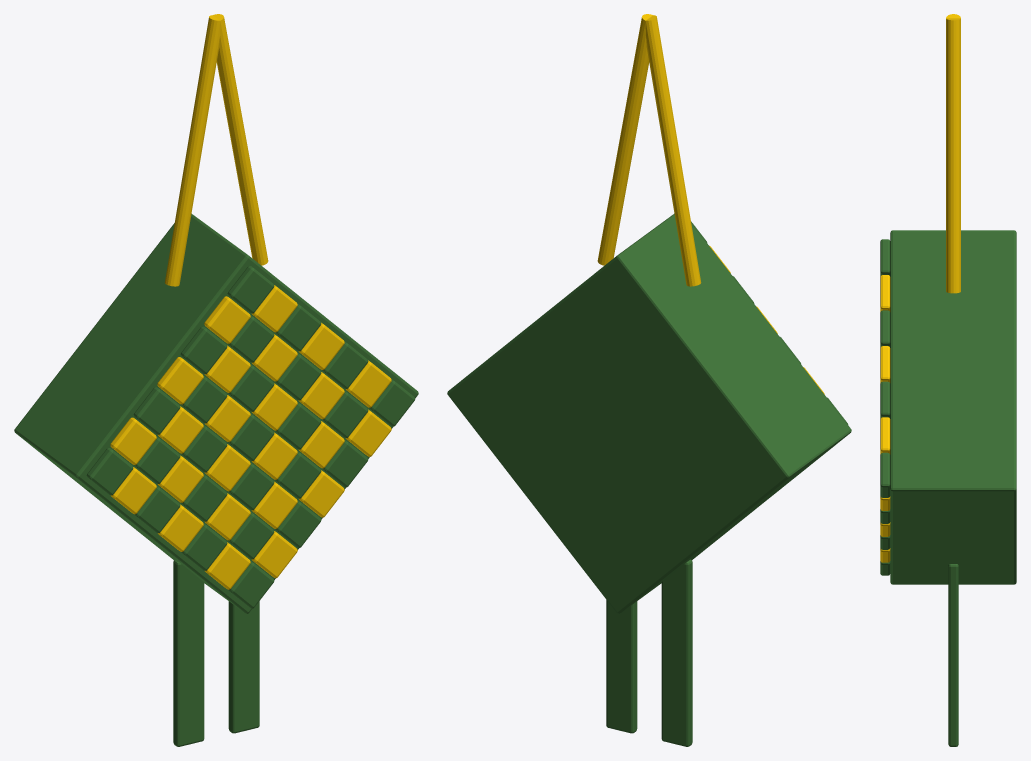
The model's file is hari-raya-ketupat-decoration.glb.
3 renders of one model, left to right at view 1: azimuth 30°, elevation 25°; view 2: azimuth 150°, elevation 25°; view 3: azimuth 270°, elevation 25°, orthographic.
Visible parts, largest first — view 1: Woven_Core, Palm_Tail, Hanging_Loop_Left, Palm_Tail.001, Hanging_Loop_Right, Palm_Weave_0_2, Palm_Weave_0_0, Palm_Weave_0_4, Palm_Weave_0_6, Palm_Weave_0_3, Palm_Weave_0_1, Palm_Weave_0_5 (+42 smaller); view 2: Woven_Core, Palm_Tail, Hanging_Loop_Left, Palm_Tail.001, Hanging_Loop_Right; view 3: Woven_Core, Hanging_Loop_Right, Palm_Tail.001, Palm_Weave_6_6, Palm_Weave_4_6, Palm_Weave_0_6, Palm_Weave_5_6, Palm_Weave_2_6, Palm_Weave_3_6, Palm_Weave_1_6.
Boxes of the visible parts, x1,y1,x2,y2 form: Woven_Core: (14, 213, 418, 613); Palm_Tail: (173, 559, 204, 746); Hanging_Loop_Left: (164, 15, 220, 286); Palm_Tail.001: (228, 601, 259, 733); Hanging_Loop_Right: (213, 14, 268, 265); Palm_Weave_0_2: (133, 387, 180, 434); Palm_Weave_0_0: (86, 448, 133, 495); Palm_Weave_0_4: (180, 326, 227, 374); Palm_Weave_0_6: (227, 266, 274, 313); Palm_Weave_0_3: (157, 357, 203, 404); Palm_Weave_0_1: (110, 417, 156, 464); Palm_Weave_0_5: (204, 296, 250, 343); Woven_Core: (447, 213, 851, 613); Palm_Tail: (661, 559, 692, 746); Hanging_Loop_Left: (645, 15, 701, 286); Palm_Tail.001: (606, 600, 637, 733); Hanging_Loop_Right: (597, 14, 652, 265); Woven_Core: (890, 230, 1016, 584); Hanging_Loop_Right: (946, 18, 960, 293); Palm_Tail.001: (948, 564, 958, 746); Palm_Weave_6_6: (880, 452, 890, 497); Palm_Weave_4_6: (880, 381, 890, 418); Palm_Weave_0_6: (880, 239, 890, 276); Palm_Weave_5_6: (880, 417, 890, 454); Palm_Weave_2_6: (880, 310, 890, 347); Palm_Weave_3_6: (880, 346, 890, 383); Palm_Weave_1_6: (880, 275, 890, 311).
Bounding box in the file's own units: 0.3095 × 0.6211 × 0.108.
